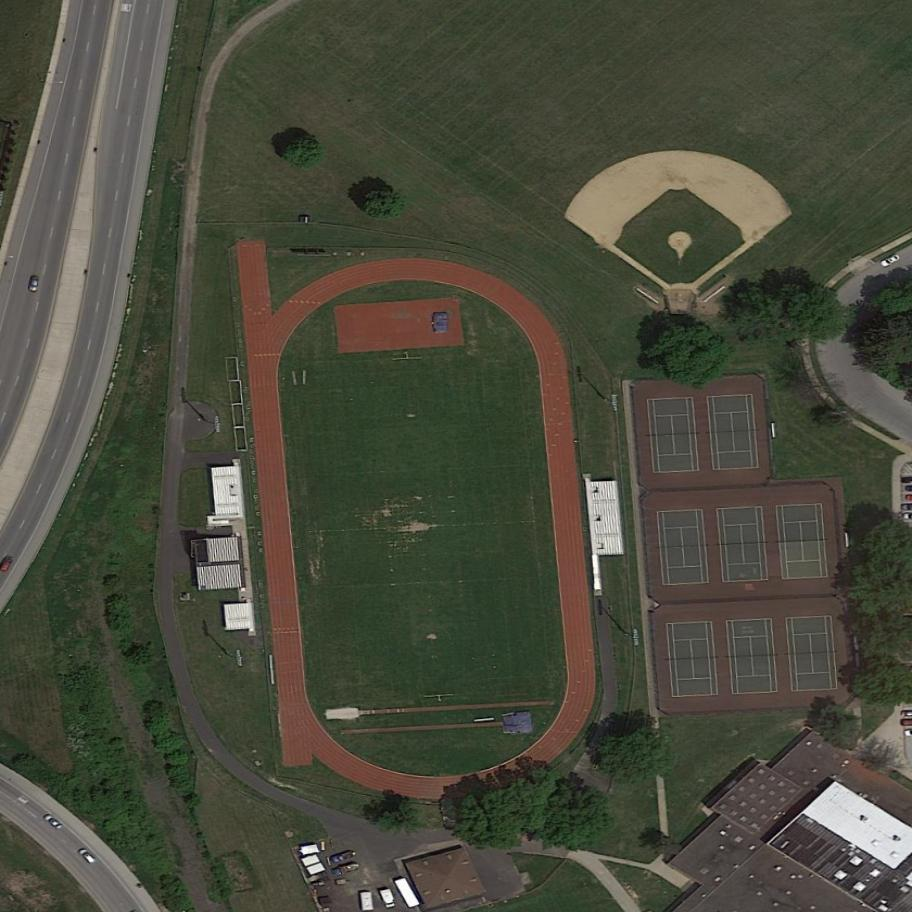large-vehicle: (393, 875, 421, 911), (878, 251, 903, 270)
small-vehicle: (41, 809, 66, 835), (330, 848, 359, 866), (377, 886, 397, 912), (77, 845, 99, 867), (27, 275, 41, 294)
